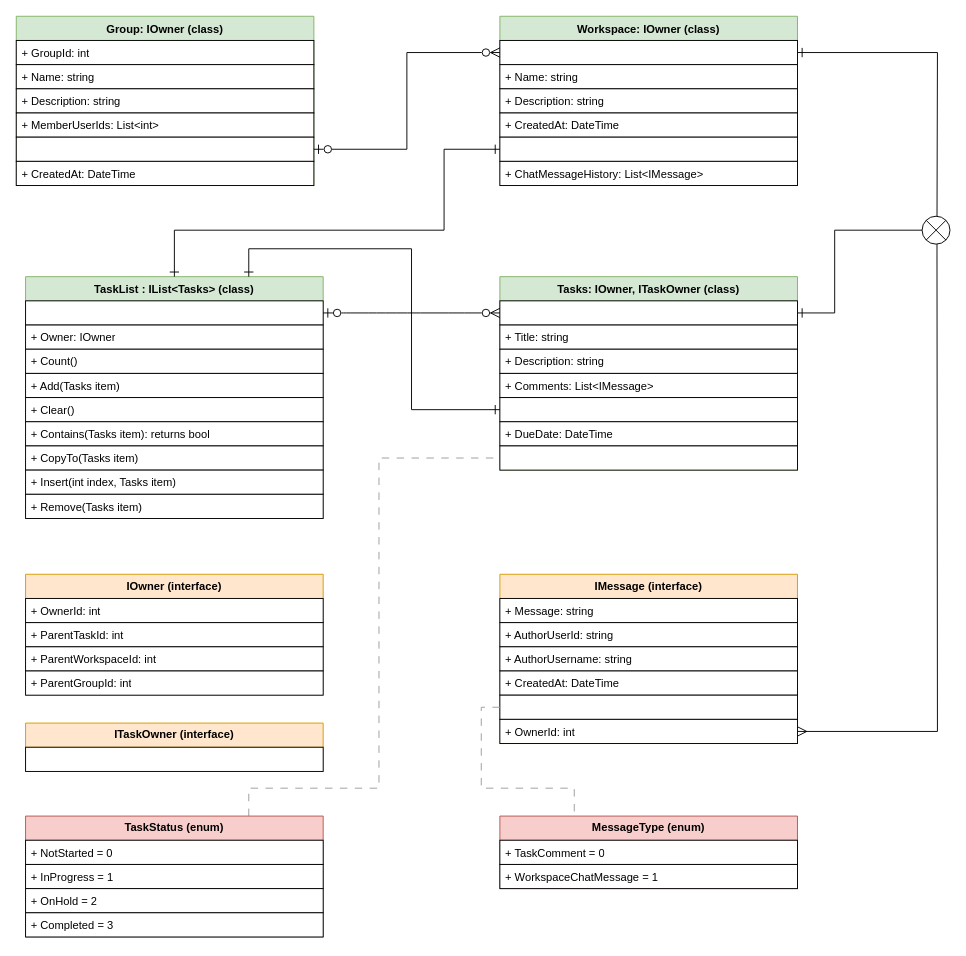
Image size: 966x956. Some labels were removed from this diagram. Here are the shapes that lost their labels. From the top down, the centre of each, then its label:
the point at 648,52: + WorkspaceId: int
the point at 164,148: + WorkspaceIds: List<int>
the point at 648,148: + Tasks: TaskList
the point at 174,312: + Items: List<Tasks>
the point at 648,312: + TaskId: int
the point at 648,409: + ChildTasks: TaskList
the point at 648,457: + Status: TaskStatus
the point at 648,706: + MessageType: Type
the point at 174,758: + IsChildTask: bool
